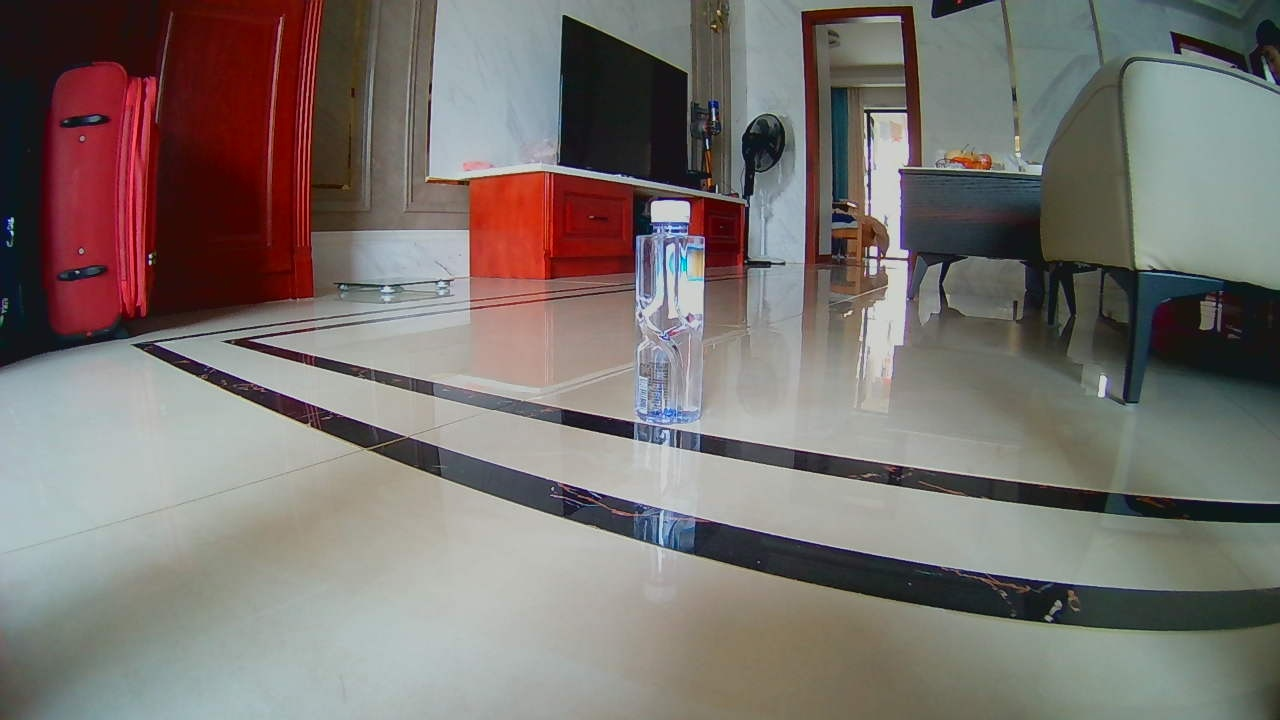water: (631, 203, 704, 423)
